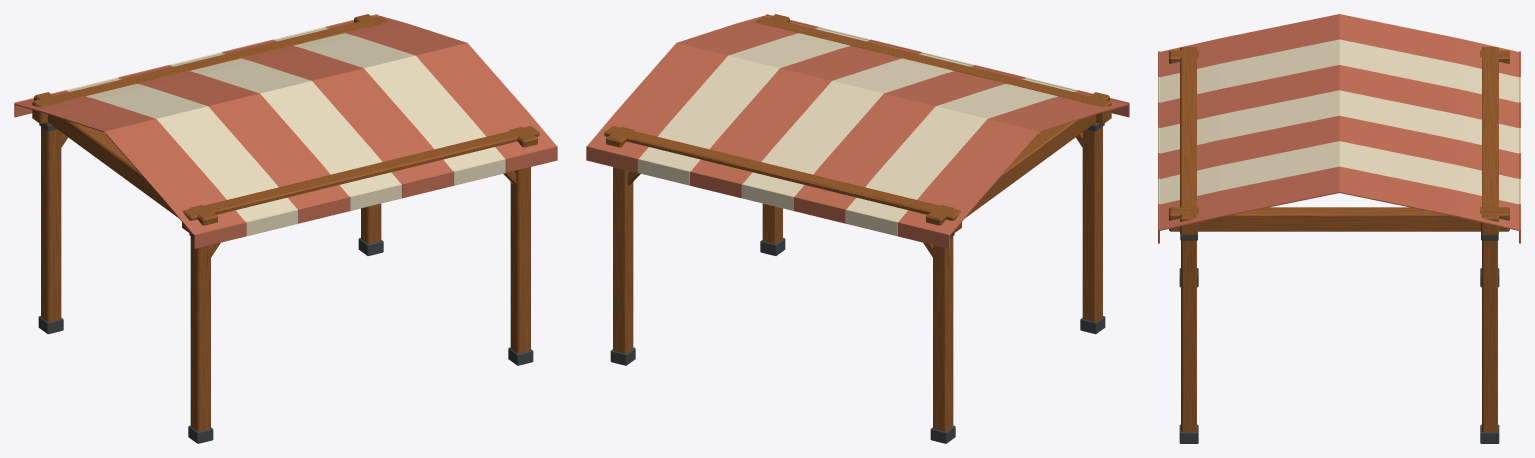
The model's file is striped-canopy.glb.
3 views of the same model, side by side, from view 1: azimuth 30°, elevation 25°; view 2: azimuth 150°, elevation 25°; view 3: azimuth 270°, elevation 25° (orthographic).
Visible parts, largest first — view 1: Canvas muted vermilion assembly, Canvas cream assembly, Warm grained oak assembly, Forged iron assembly; view 2: Canvas muted vermilion assembly, Canvas cream assembly, Warm grained oak assembly, Forged iron assembly; view 3: Canvas muted vermilion assembly, Canvas cream assembly, Warm grained oak assembly, Forged iron assembly.
Boxes of the visible parts, box(x1,y1,x2,y2) form: Canvas muted vermilion assembly: box(14, 14, 557, 248); Canvas cream assembly: box(66, 27, 505, 235); Warm grained oak assembly: box(32, 14, 539, 431); Forged iron assembly: box(38, 123, 533, 443); Canvas muted vermilion assembly: box(586, 14, 1129, 248); Canvas cream assembly: box(638, 27, 1077, 235); Warm grained oak assembly: box(604, 14, 1111, 431); Forged iron assembly: box(610, 123, 1105, 443); Canvas muted vermilion assembly: box(1158, 14, 1520, 243); Canvas cream assembly: box(1158, 39, 1520, 204); Warm grained oak assembly: box(1169, 47, 1509, 431); Forged iron assembly: box(1179, 234, 1499, 443).
Bounding box in the file's own units: 4.2 × 2.85 × 3.62.
Materials: 4 (1 with a texture image).
